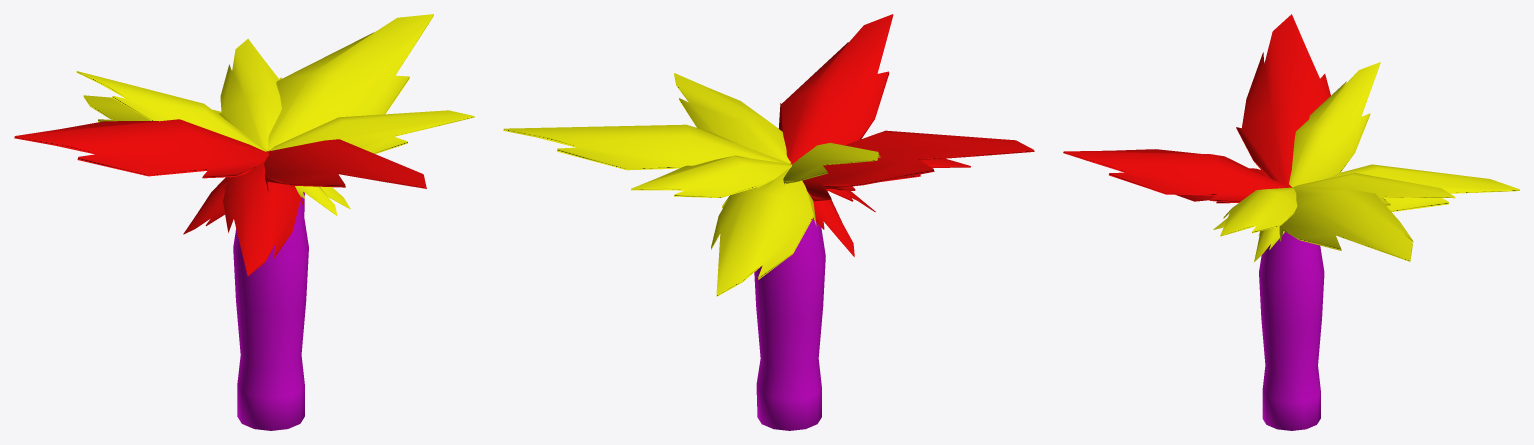
File: SmallTree.fbx
3 views of the same model, side by side, from view 1: azimuth 30°, elevation 25°; view 2: azimuth 150°, elevation 25°; view 3: azimuth 270°, elevation 25° (orthographic). The views are drawn at different scales.
Parts seen in each view (by area): view 1: polySurface173, pPlane52, pPlane48, pPlane49, pPlane50, pPlane55, pPlane51, pPlane54, pPlane53, pPlane56, pPlane58; view 2: polySurface173, pPlane50, pPlane53, pPlane52, pPlane48, pPlane51, pPlane55, pPlane54, pPlane56, pPlane49; view 3: polySurface173, pPlane48, pPlane50, pPlane52, pPlane54, pPlane53, pPlane51, pPlane55, pPlane59.
Part boxes in pixels (left/top/right/bottom): polySurface173: left=233, top=192, right=308, bottom=430; pPlane52: left=268, top=14, right=433, bottom=151; pPlane48: left=14, top=119, right=268, bottom=178; pPlane49: left=220, top=158, right=304, bottom=276; pPlane50: left=264, top=139, right=426, bottom=192; pPlane55: left=219, top=39, right=281, bottom=150; pPlane51: left=270, top=110, right=474, bottom=153; pPlane54: left=76, top=71, right=266, bottom=151; pPlane53: left=83, top=95, right=222, bottom=122; pPlane56: left=183, top=150, right=270, bottom=234; pPlane58: left=295, top=186, right=337, bottom=215; polySurface173: left=754, top=219, right=825, bottom=430; pPlane50: left=778, top=14, right=893, bottom=164; pPlane53: left=711, top=168, right=816, bottom=296; pPlane52: left=503, top=124, right=791, bottom=170; pPlane48: left=802, top=130, right=1034, bottom=201; pPlane51: left=674, top=73, right=790, bottom=163; pPlane55: left=631, top=155, right=791, bottom=197; pPlane54: left=783, top=142, right=880, bottom=184; pPlane56: left=790, top=163, right=854, bottom=256; pPlane49: left=826, top=158, right=970, bottom=190; polySurface173: left=1259, top=232, right=1324, bottom=430; pPlane48: left=1236, top=14, right=1330, bottom=187; pPlane50: left=1063, top=149, right=1291, bottom=202; pPlane52: left=1279, top=186, right=1413, bottom=261; pPlane54: left=1289, top=62, right=1380, bottom=187; pPlane53: left=1322, top=164, right=1519, bottom=211; pPlane51: left=1220, top=187, right=1297, bottom=236; pPlane55: left=1294, top=172, right=1455, bottom=205; pPlane59: left=1254, top=186, right=1293, bottom=261.
Bounding box in the file's own units: 16.72 × 11.22 × 15.67.
